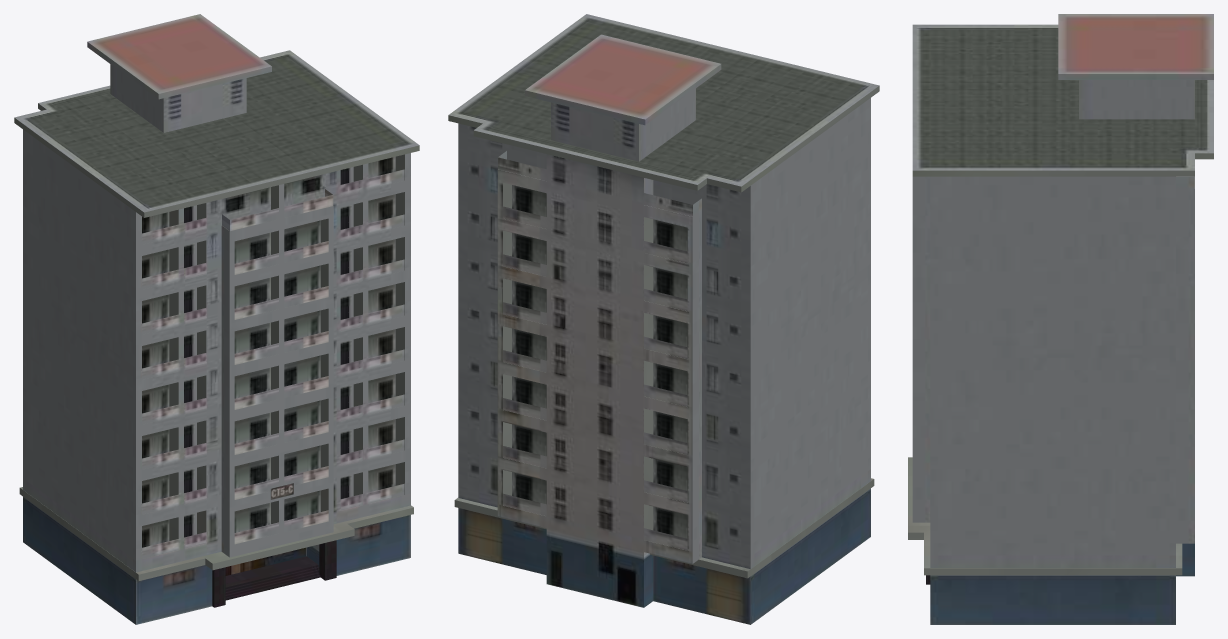
The picture shows the model from 3 angles, left to right: view 1: azimuth 30°, elevation 25°; view 2: azimuth 150°, elevation 25°; view 3: azimuth 270°, elevation 25°; orthographic projection. The views are drawn at different scales.
Parts seen in each view (by area): view 1: HN554___CT5C_Me_Tri_Ha; view 2: HN554___CT5C_Me_Tri_Ha; view 3: HN554___CT5C_Me_Tri_Ha.
Boxes of the visible parts, left/top/right/bottom form: HN554___CT5C_Me_Tri_Ha: left=14, top=14, right=419, bottom=624; HN554___CT5C_Me_Tri_Ha: left=448, top=14, right=879, bottom=624; HN554___CT5C_Me_Tri_Ha: left=908, top=14, right=1213, bottom=624.
Size of the model in its own units: 22.01 by 35.7 by 19.46.
Materials: 1 (1 with a texture image).
